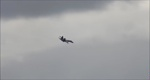maybay_muctieu: (58, 33, 73, 45)
